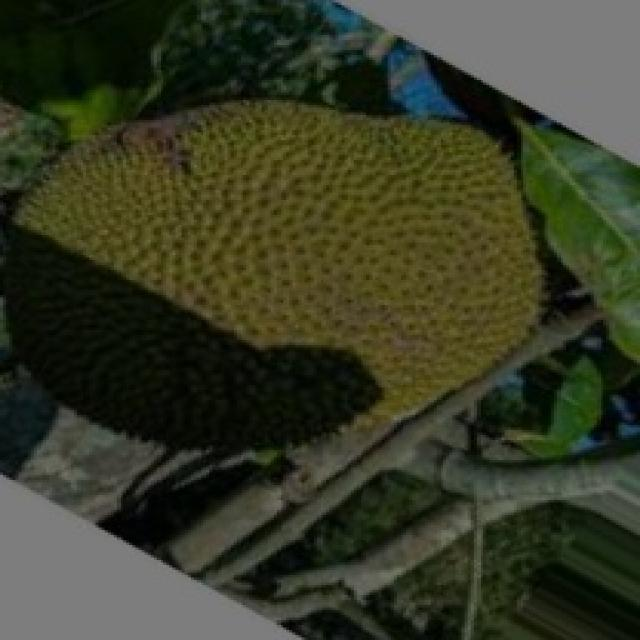Fruit: (185, 35, 606, 445)
